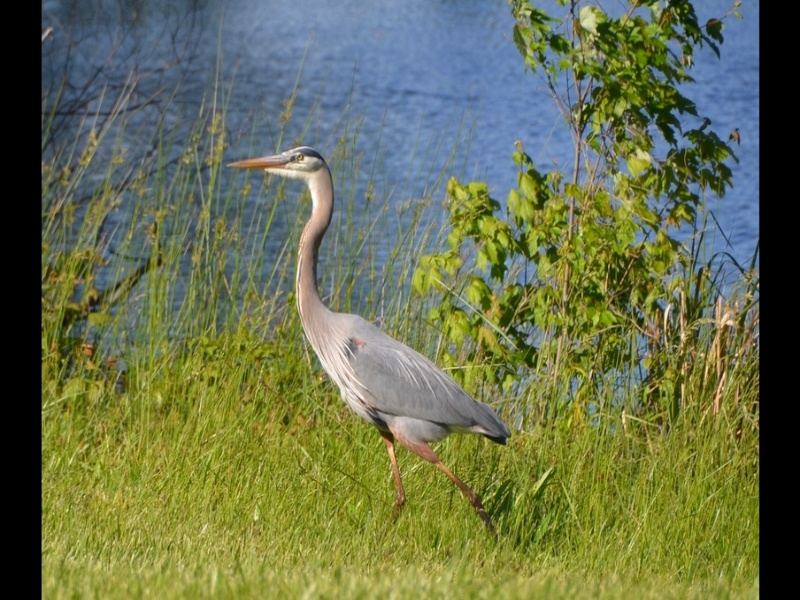heron: (218, 142, 517, 539)
